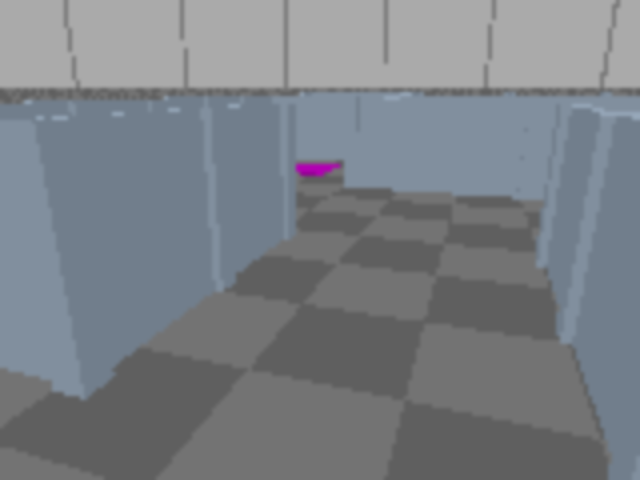goal_zone: (269, 163, 339, 175)
